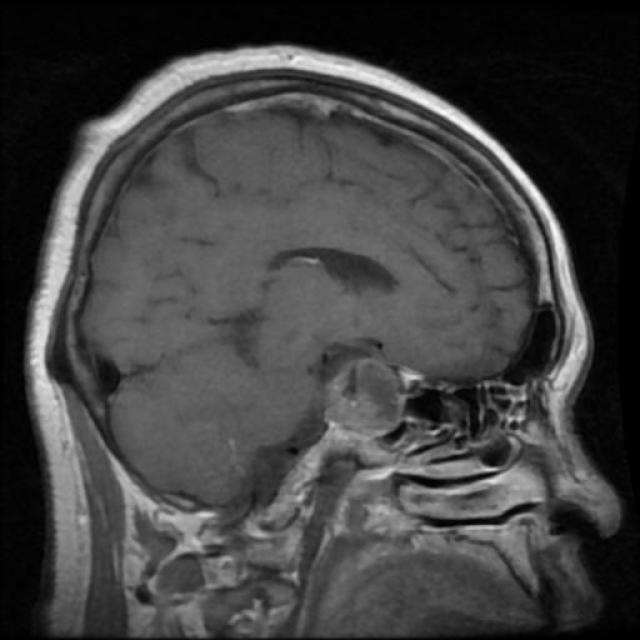pituitary: (307, 353, 428, 447)
